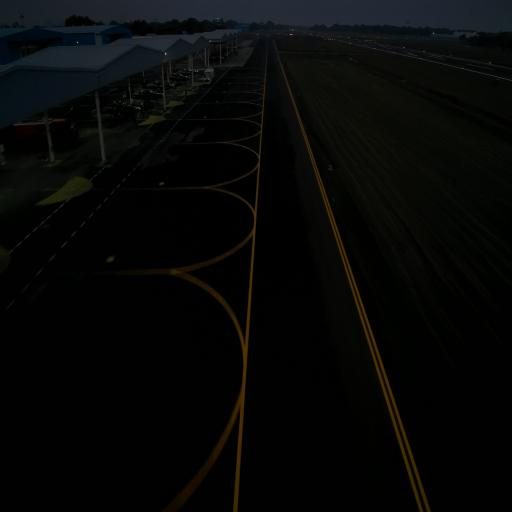on: (330, 162, 332, 170)
